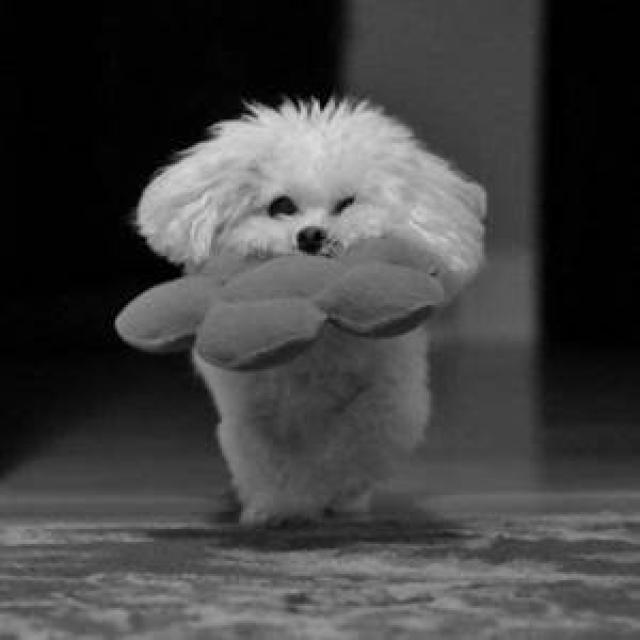dog: (113, 94, 489, 527)
